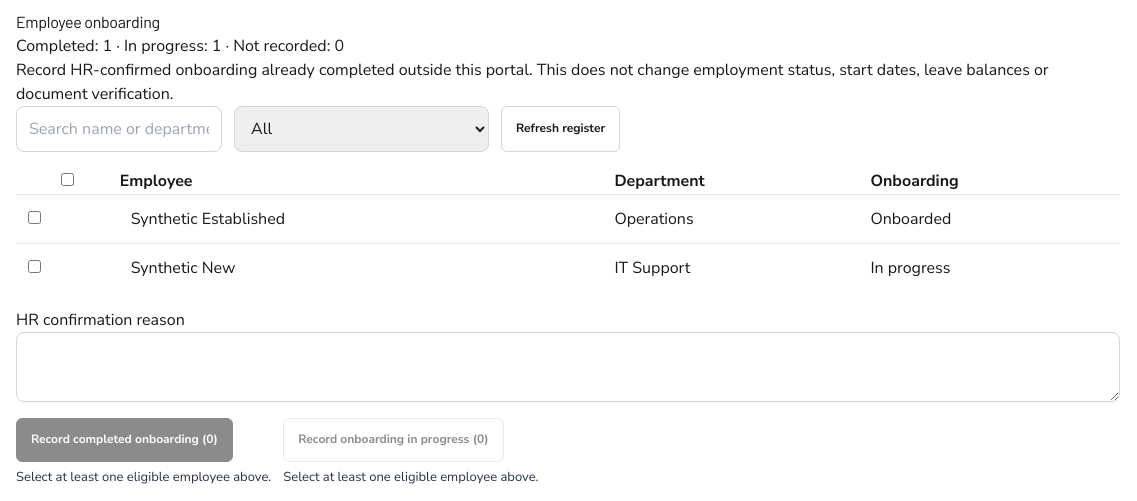
Test case: shows completed and new employees separately without inferring from Active status
Select "New employees / in progress" in the dropdown named "Onboarding status filter". click: (362, 129)
box: [234,106,489,152]
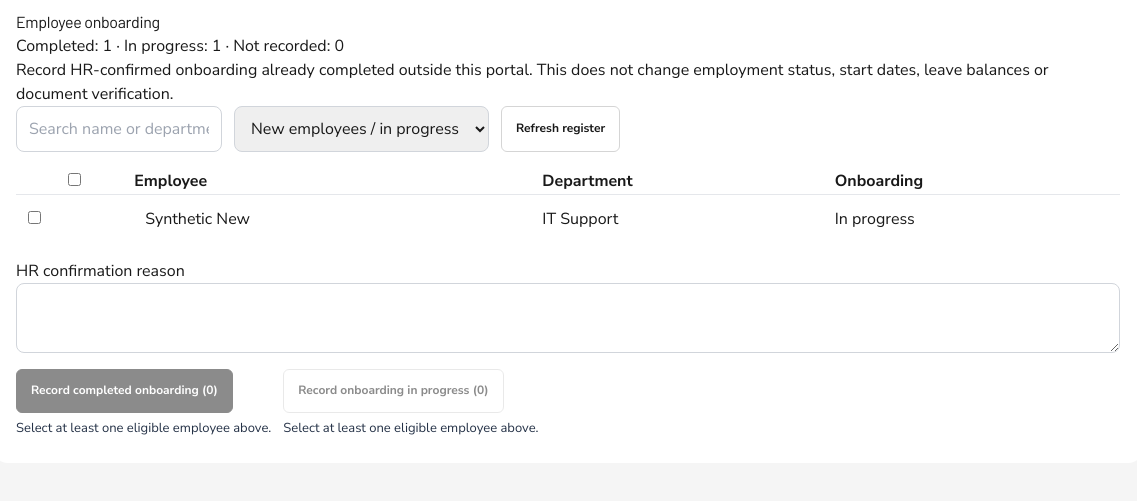
Expected: the text "Synthetic New" is shown, [133,194,541,243]
Now the text "Synthetic Established" is gone
